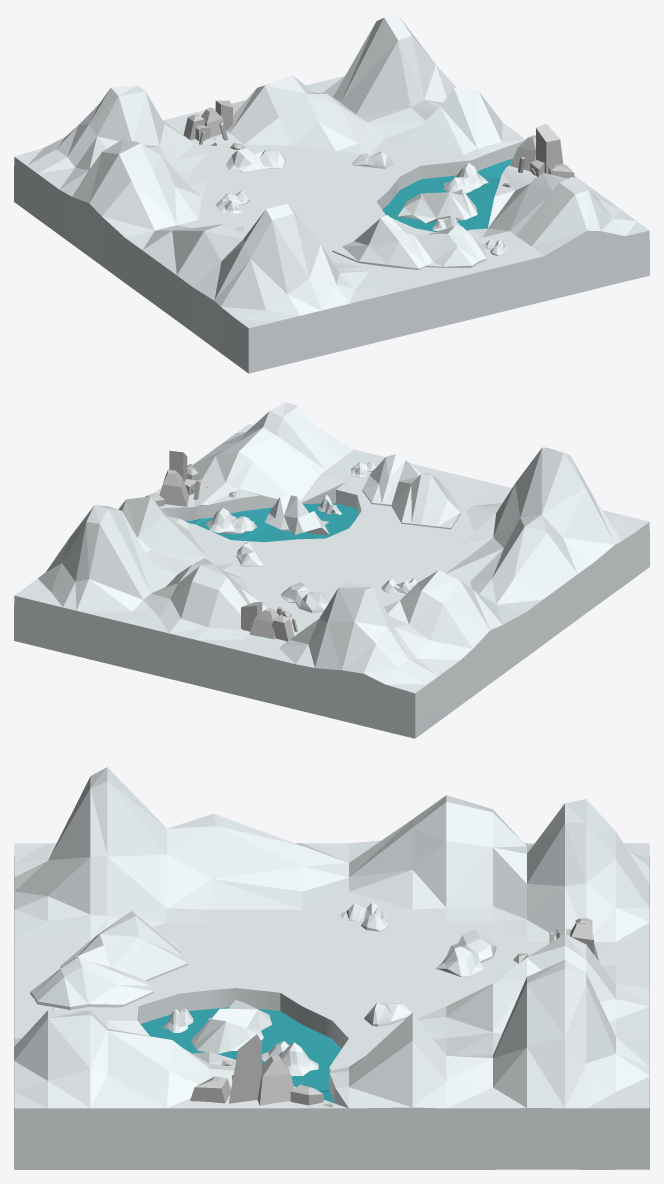
Rendered from environment-past.glb.
The picture shows the model from 3 angles, top to bottom: view 1: azimuth 30°, elevation 25°; view 2: azimuth 150°, elevation 25°; view 3: azimuth 270°, elevation 25°; orthographic projection. The views are drawn at different scales.
Parts seen in each view (by area): view 1: Environment_past, glacier_1_geo, glacier_2_geo, Environment_Past, pCube10, glacier_3_geo1, pCube9, pPlane5; view 2: Environment_past, glacier_1_geo, glacier_2_geo, Environment_Past, glacier_3_geo1, pCube9, pCube2; view 3: Environment_past, glacier_1_geo, glacier_2_geo, Environment_Past, pCube10, pCube9, glacier_3_geo1, pPlane5, pCube15, pPlane4.
Boxes of the visible parts, x1,y1,x2,y2 form: Environment_past: (14,14,649,373); glacier_1_geo: (332,215,486,269); glacier_2_geo: (397,189,477,223); Environment_Past: (226,148,285,172); pCube10: (536,123,563,173); glacier_3_geo1: (443,163,488,193); pCube9: (510,135,536,171); pPlane5: (215,191,249,213); Environment_past: (14,402,649,738); glacier_1_geo: (362,454,460,529); glacier_2_geo: (264,495,329,535); Environment_Past: (280,582,330,612); glacier_3_geo1: (206,508,257,533); pCube9: (159,469,189,506); pCube2: (249,607,278,639); Environment_past: (14,767,649,1169); glacier_1_geo: (30,911,188,1009); glacier_2_geo: (191,999,272,1053); Environment_Past: (435,928,496,977); pCube10: (228,1034,261,1103); pCube9: (257,1055,294,1105); glacier_3_geo1: (262,1041,318,1076); pPlane5: (340,902,388,931); pCube15: (190,1076,230,1103); pPlane4: (364,1002,411,1026).
Bounding box in the file's own units: 51.72 × 15.64 × 52.42.
5 materials, 5 textured.
